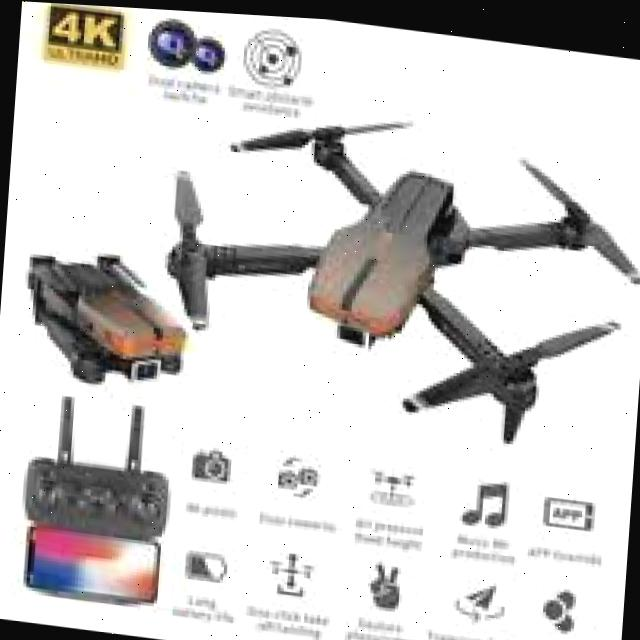drone: (157, 92, 640, 458)
